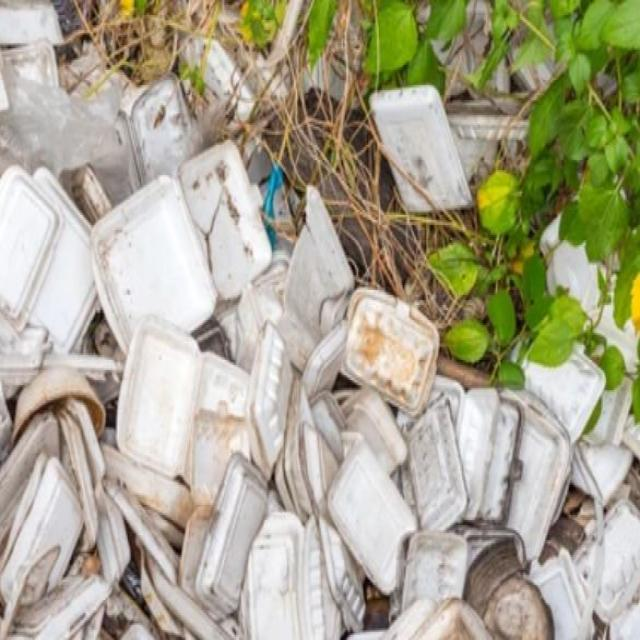electronic: (0, 161, 99, 356), (368, 82, 474, 215)
